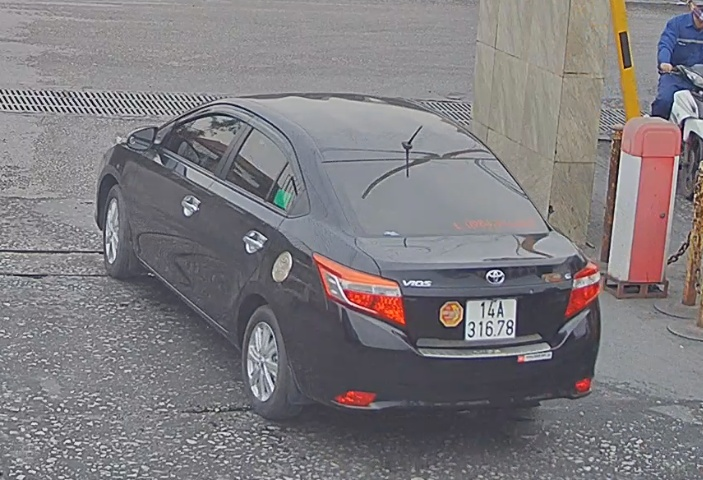vehicle plate: (456, 287, 524, 344)
